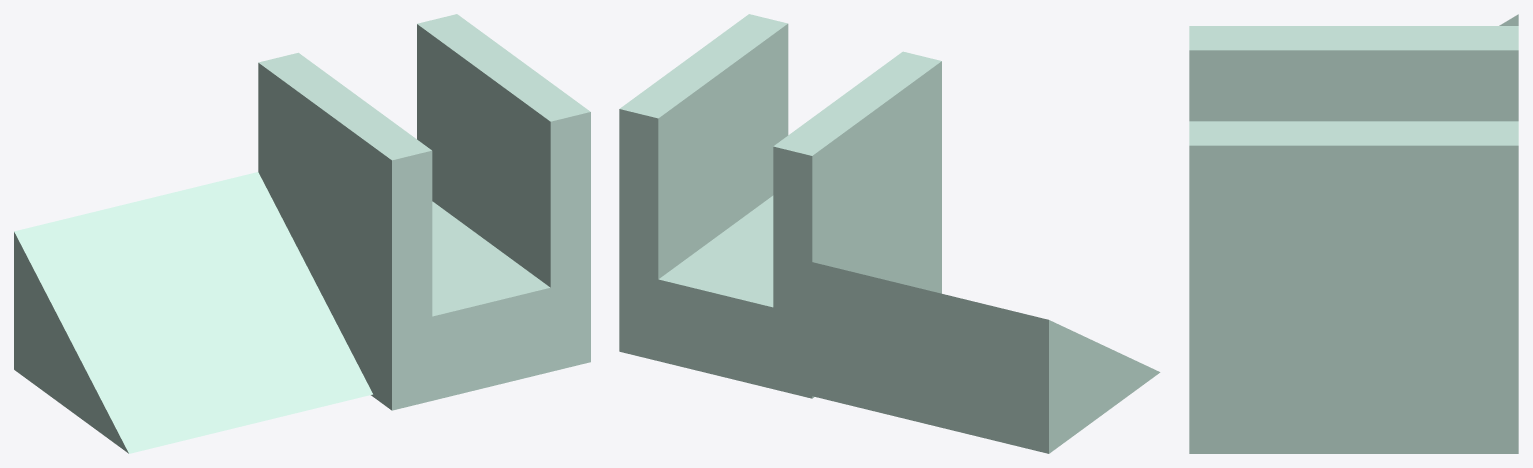
3 views of the same model, side by side, from view 1: azimuth 30°, elevation 25°; view 2: azimuth 150°, elevation 25°; view 3: azimuth 270°, elevation 25° (orthographic). The views are drawn at different scales.
Visible parts, largest first — view 1: Renderer Node; view 2: Renderer Node; view 3: Renderer Node.
Boxes of the visible parts, x1=… form: Renderer Node: x1=14, y1=14, x2=590, y2=453; Renderer Node: x1=619, y1=14, x2=1160, y2=453; Renderer Node: x1=1189, y1=14, x2=1518, y2=453.
Size of the model in its own units: 1.39 by 0.75 by 0.7266.
